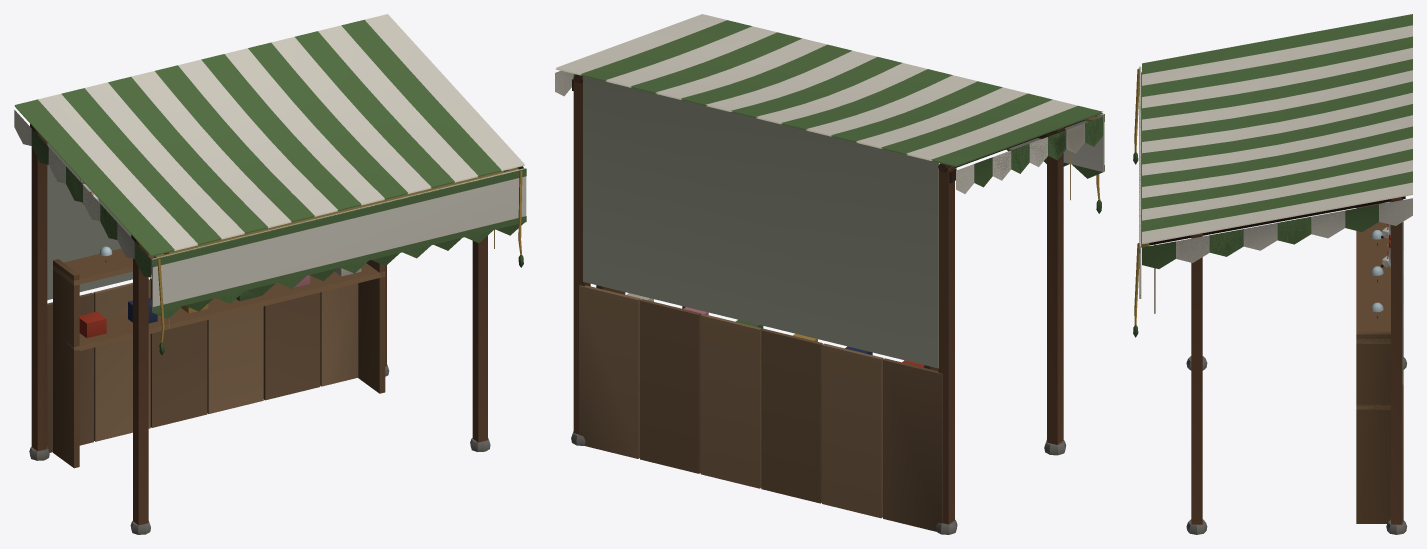
The model's file is yatai_wanage.glb.
3 renders of one model, left to right at view 1: azimuth 30°, elevation 25°; view 2: azimuth 150°, elevation 25°; view 3: azimuth 270°, elevation 25°, orthographic. The views are drawn at different scales.
Parts seen in each view (by area): view 1: booth; view 2: booth; view 3: booth.
Boxes of the visible parts, x1=… form: booth: x1=14, y1=14, x2=526, y2=534; booth: x1=555, y1=14, x2=1104, y2=534; booth: x1=1133, y1=14, x2=1412, y2=534.
Size of what is drawn, in the model's own units: 2.64 by 2.36 by 1.74.
